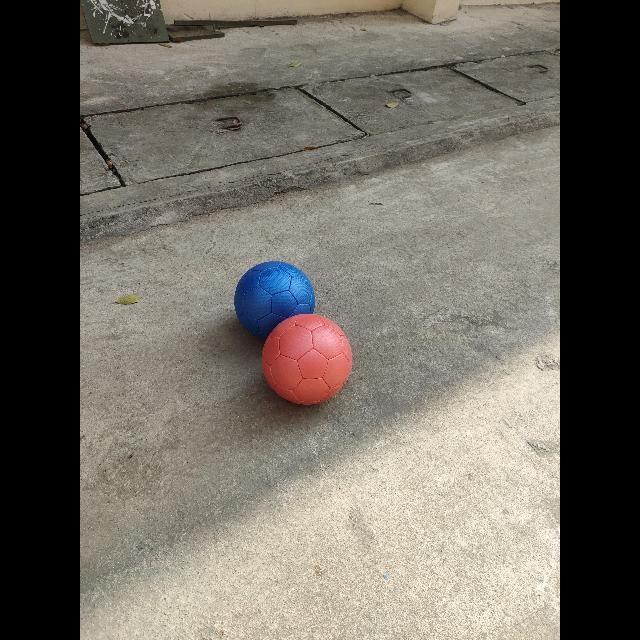B: (235, 261, 315, 340)
R: (262, 314, 352, 405)
